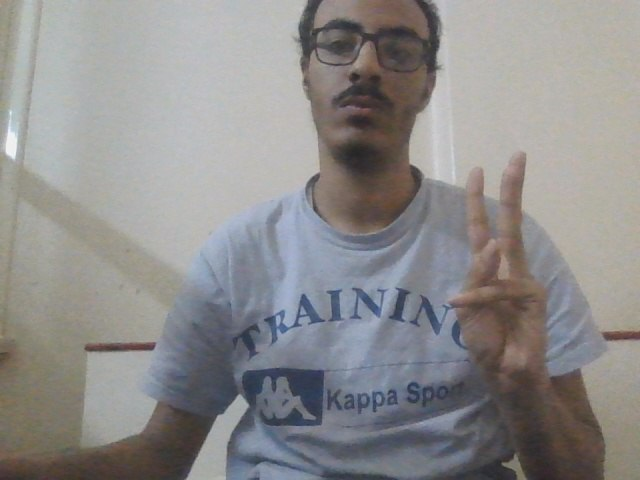Water: (447, 146, 563, 388)
